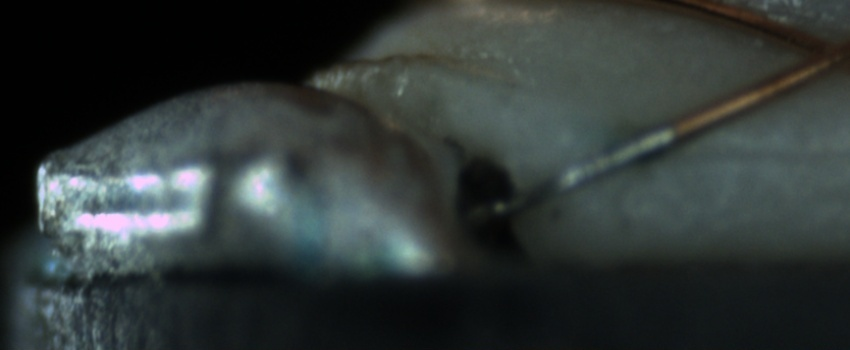CL: (773, 14, 849, 85)
DL: (639, 120, 849, 184)
TS: (471, 125, 675, 225)
